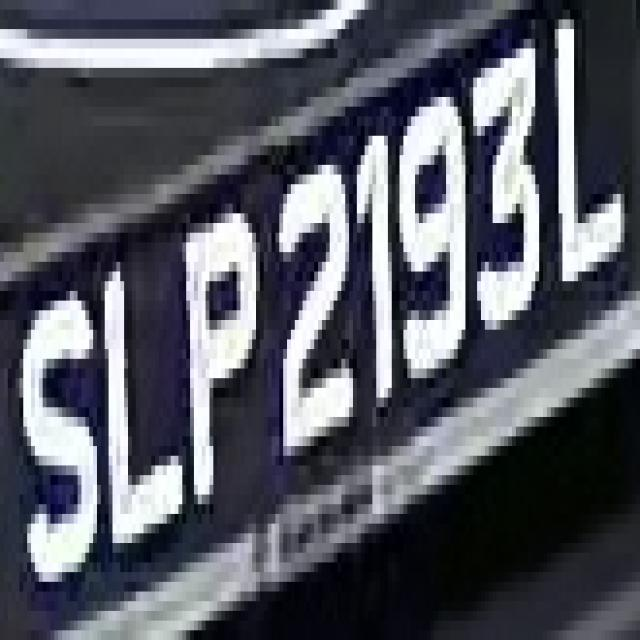1: (353, 116, 407, 427)
2: (264, 116, 357, 485)
3: (462, 39, 543, 359)
9: (392, 78, 473, 426)
L: (97, 223, 178, 572), (547, 10, 632, 310)
P: (178, 174, 264, 524)
S: (15, 252, 101, 640)
